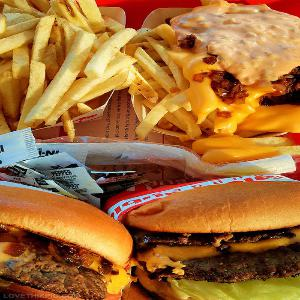cheeseburger_475cal: (138, 177, 299, 298), (3, 175, 134, 300)
fries_350cal: (1, 1, 135, 128)
